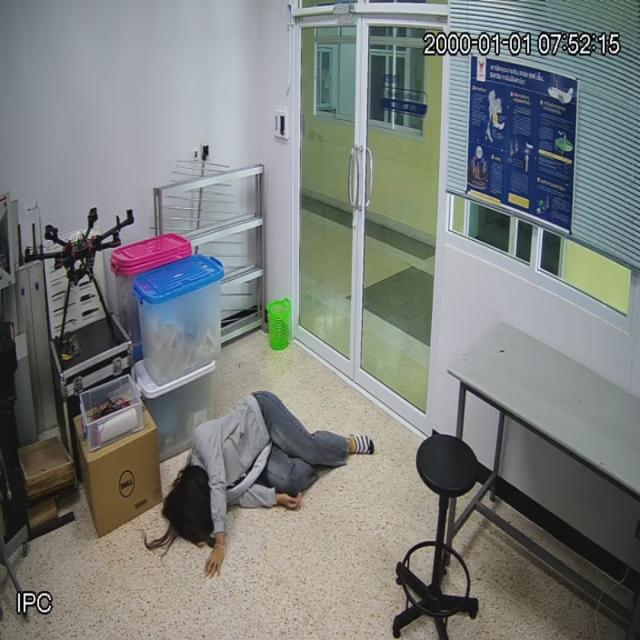fall: (166, 394, 356, 562)
